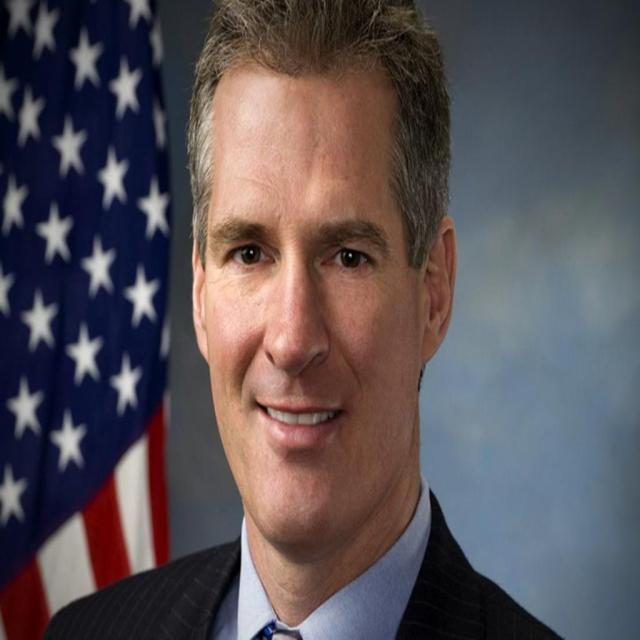Face: (204, 35, 432, 559)
